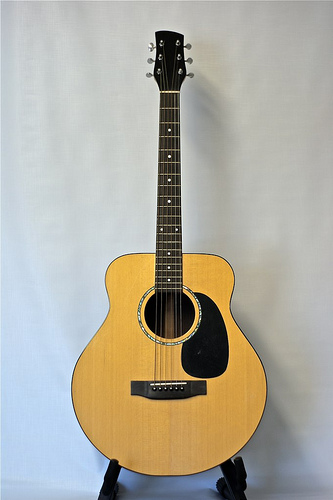guitar: (75, 31, 266, 477)
